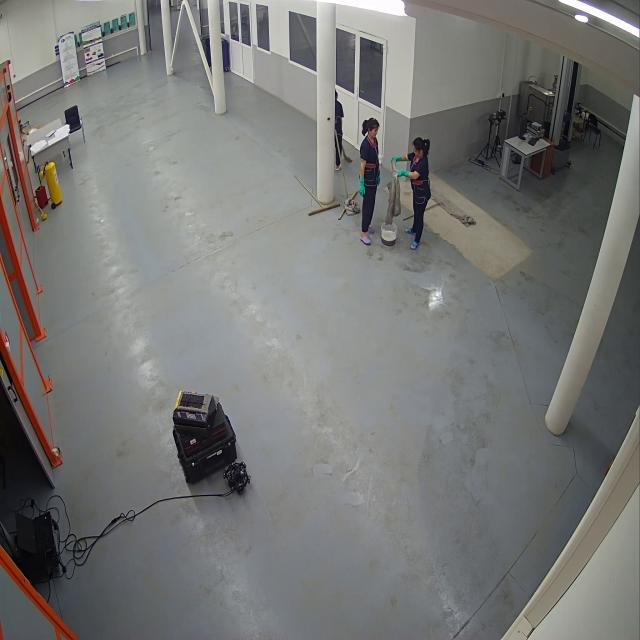NO-Hardhat: (361, 114, 380, 130), (412, 136, 428, 148), (334, 90, 340, 95)
Person: (391, 133, 432, 253), (356, 113, 379, 250), (334, 91, 344, 169)
